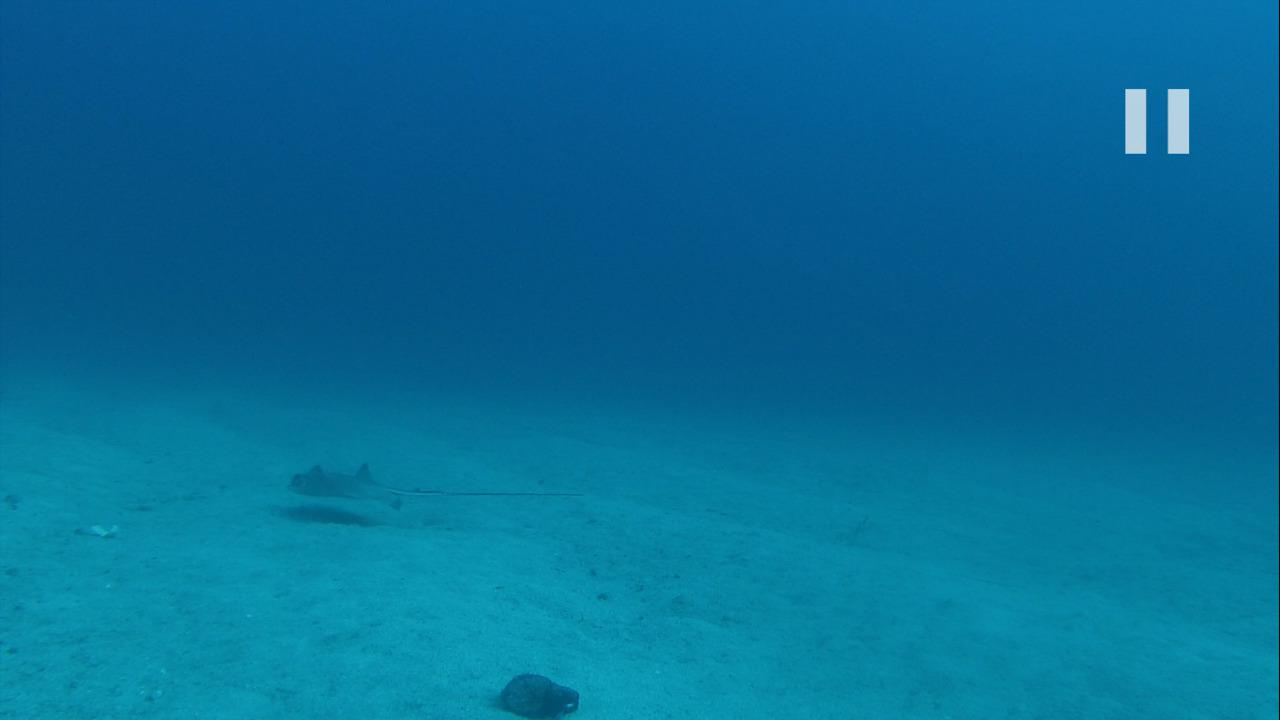myliobatis: (275, 453, 584, 521)
